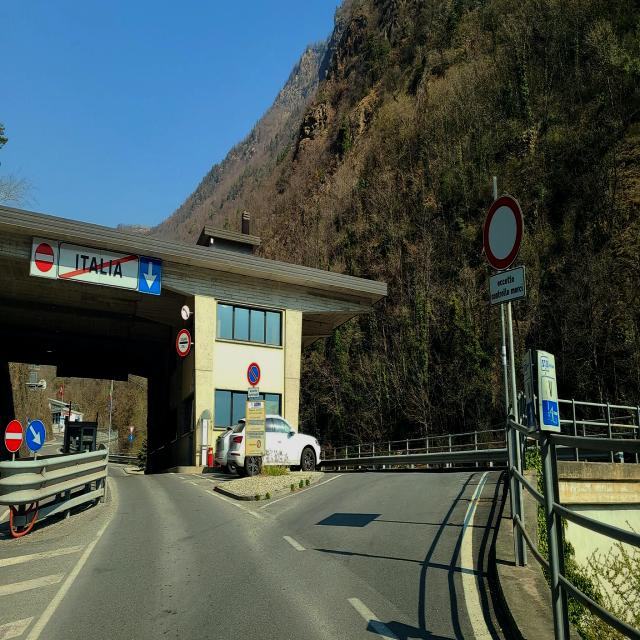car: (223, 411, 323, 475), (214, 423, 246, 475)
